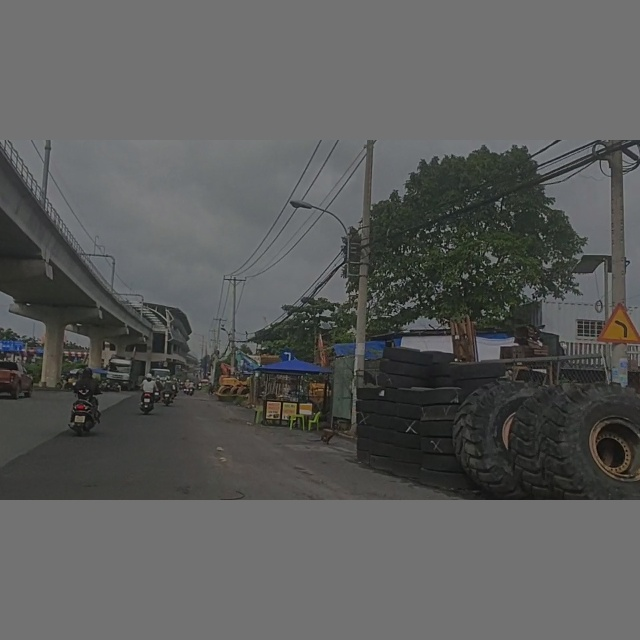R.301e: (280, 347, 294, 362)
W.201a: (597, 303, 640, 343)
